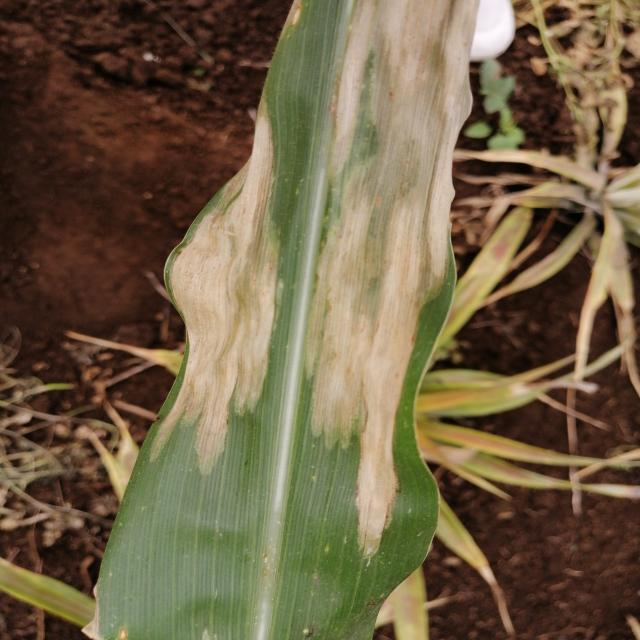Corn_Leaf_Blight: (131, 0, 478, 640)
